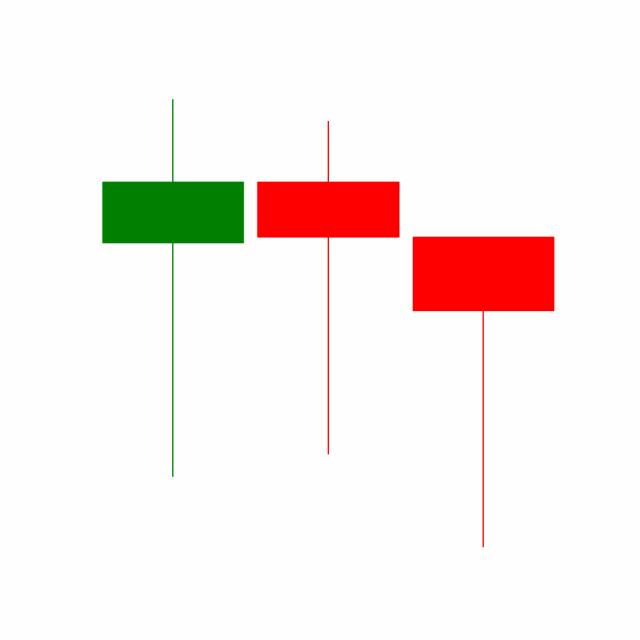Spinning Top: (249, 116, 406, 458)
